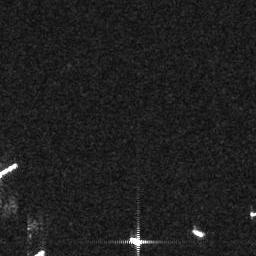ship: (1, 163, 19, 183), (128, 235, 145, 247), (191, 228, 206, 240)
